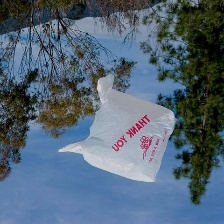plastic_bag: (55, 70, 181, 187)
